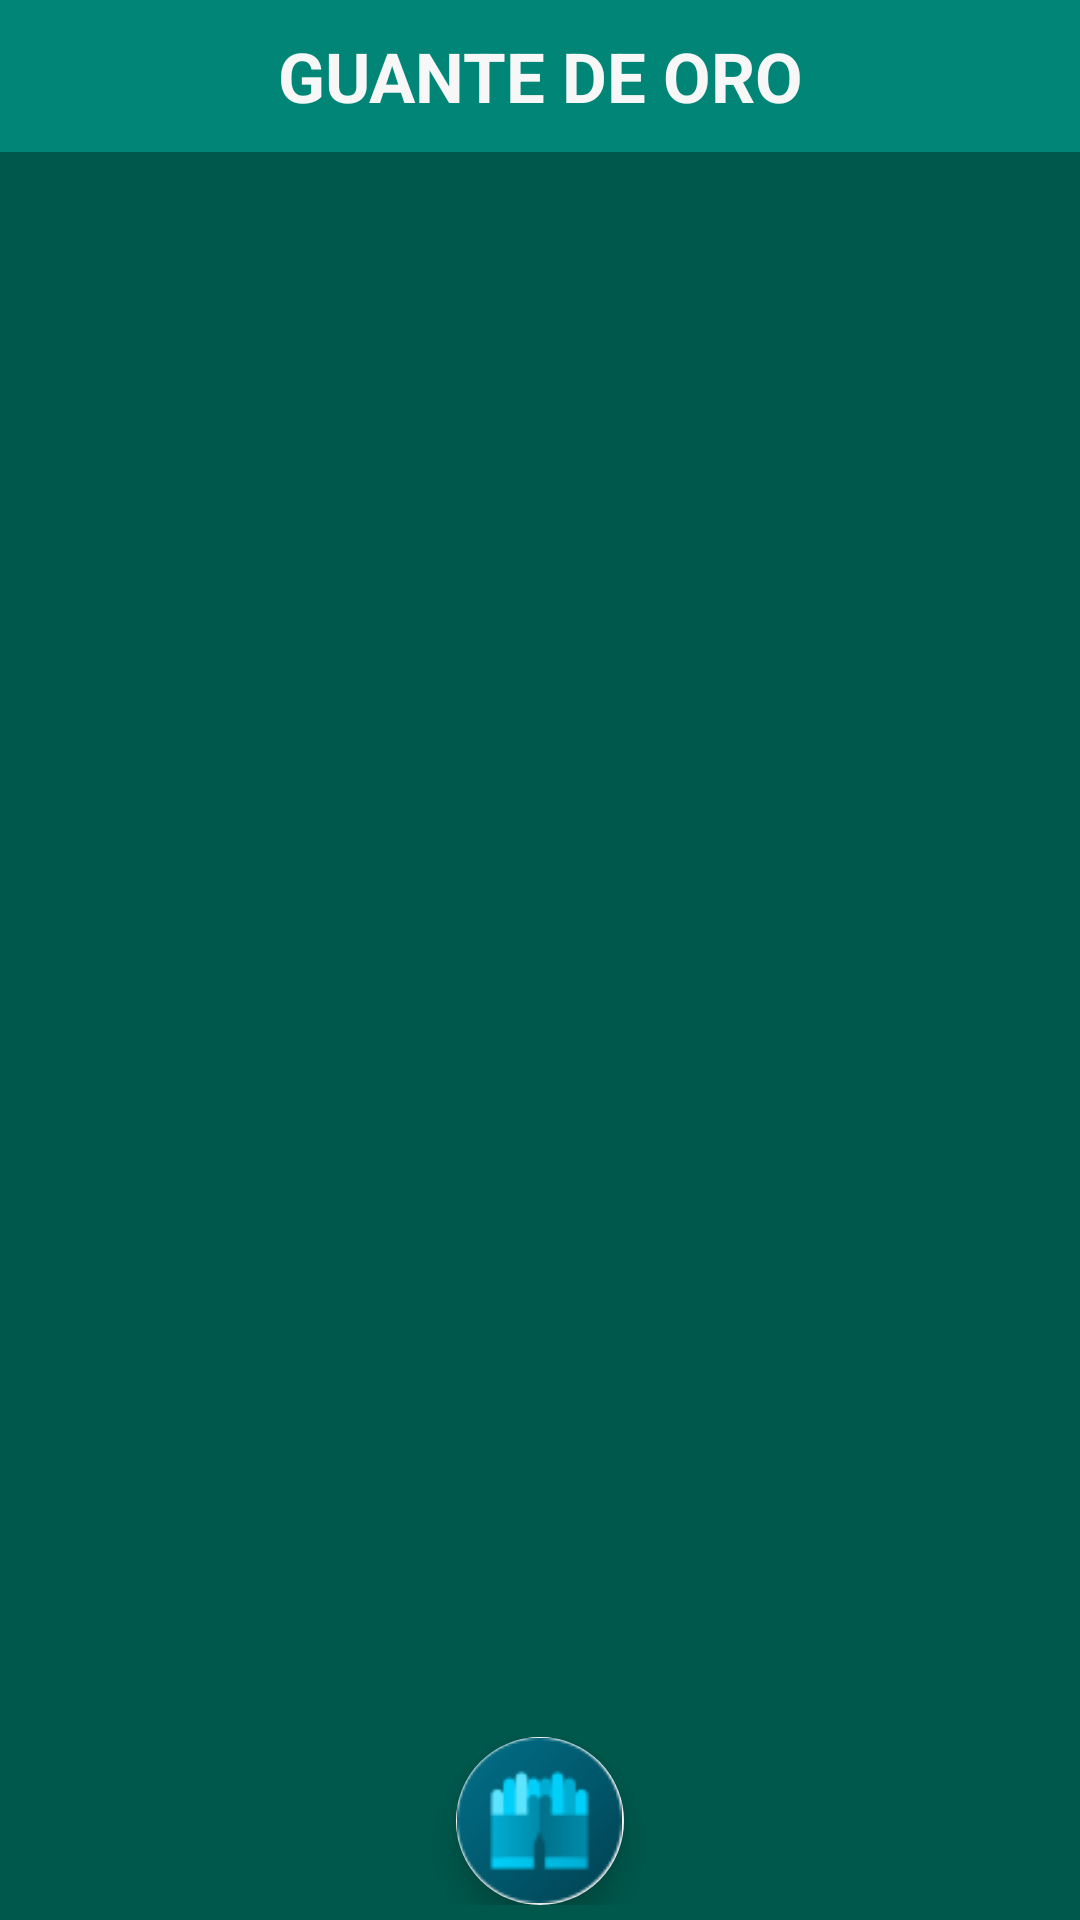

Locate icon controls on the screen. Image size 1080 x 1920, boxes as [x1,y1,x2,y2].
guantes: [456,1737,624,1905]
